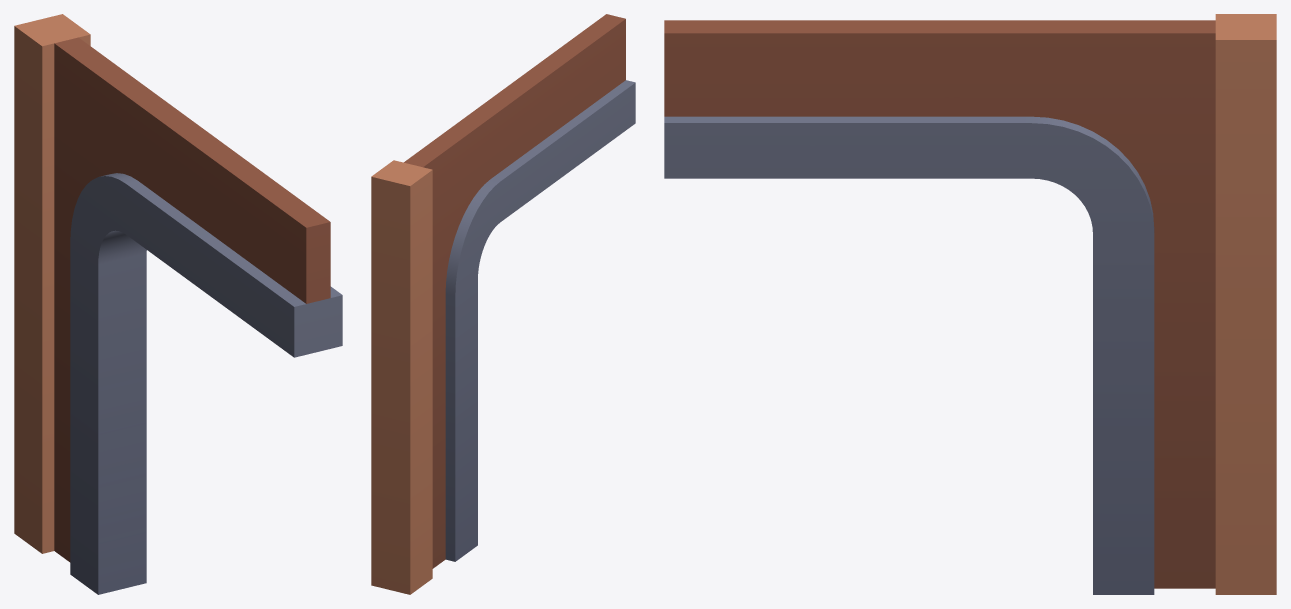
The model's file is wall_wood_doorway_square_wide_curved.glb.
3 renders of one model, left to right at view 1: azimuth 30°, elevation 25°; view 2: azimuth 150°, elevation 25°; view 3: azimuth 270°, elevation 25°, orthographic. The views are drawn at different scales.
Visible parts, largest first — view 1: wall-wood-doorway-square-wide-curved; view 2: wall-wood-doorway-square-wide-curved; view 3: wall-wood-doorway-square-wide-curved.
Part boxes in pixels (x1=…): wall-wood-doorway-square-wide-curved: x1=14, y1=14, x2=342, y2=594; wall-wood-doorway-square-wide-curved: x1=371, y1=14, x2=635, y2=594; wall-wood-doorway-square-wide-curved: x1=664, y1=14, x2=1276, y2=594.
Bounding box in the file's own units: 0.1 × 1 × 1.
1 material, 1 textured.
